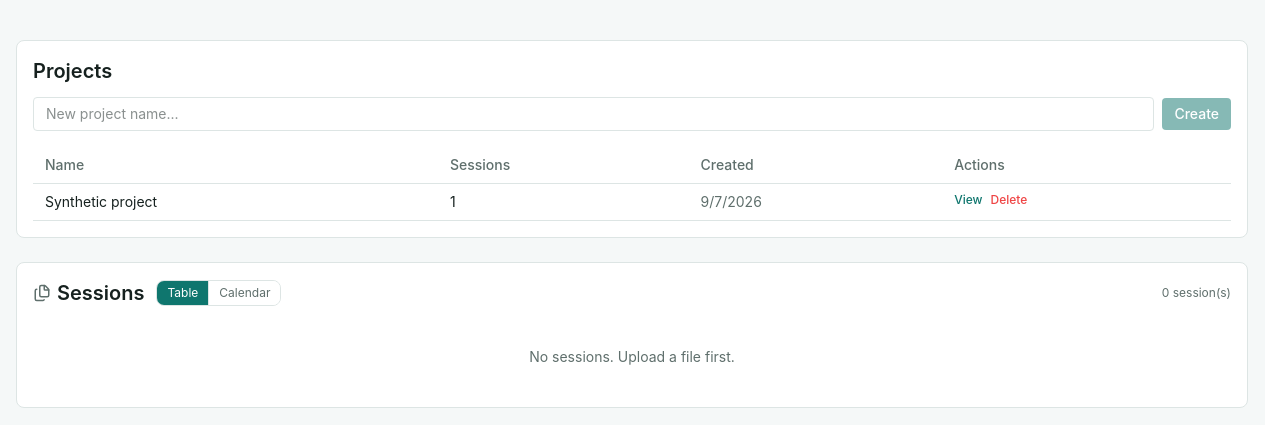
renders the actual server counts in the project plate row
Expected: the text "Synthetic project" is shown, left=33, top=184, right=438, bottom=220
Click the button "View".
click(968, 200)  # box left=954, top=192, right=982, bottom=208
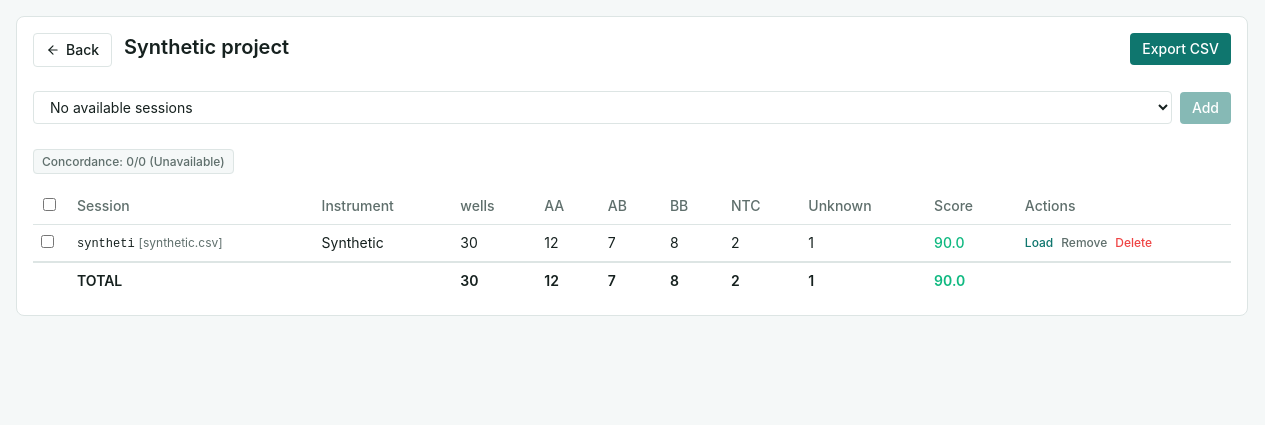
Expected: the text "synthetic" is shown, left=322, top=234, right=384, bottom=251
Result: the text "Concordance: 0/0 (Unavailable)" is shown at left=33, top=149, right=234, bottom=174
